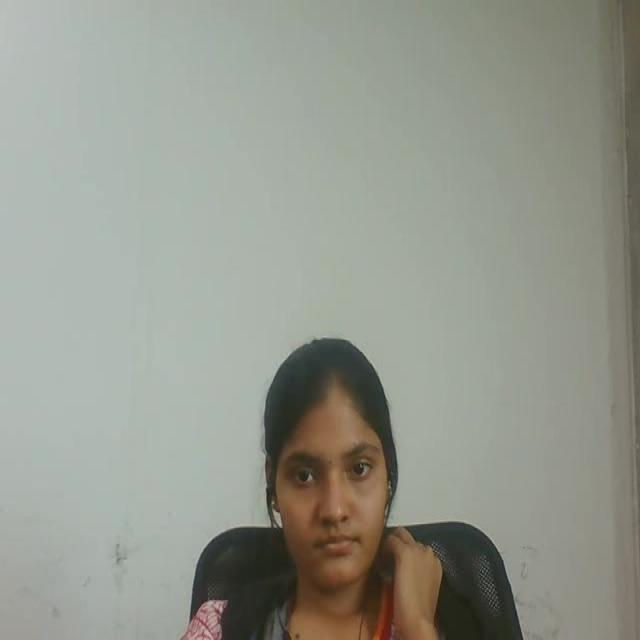Engaged: (231, 312, 438, 602)
